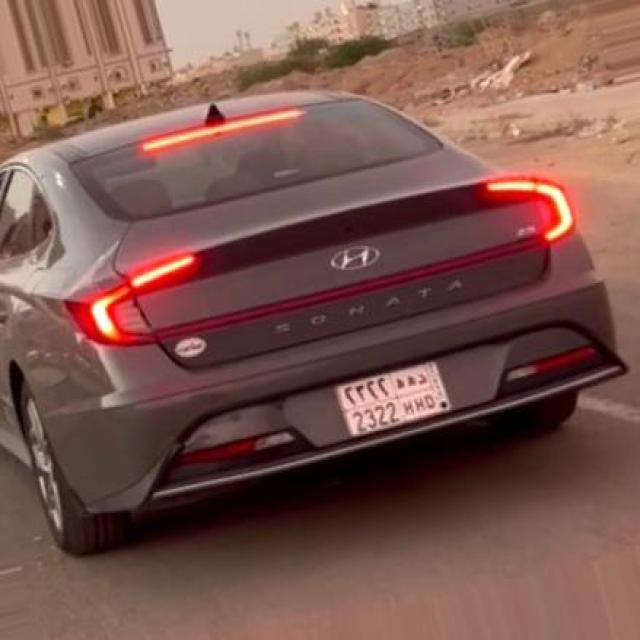Car-plate: (332, 363, 464, 448)
